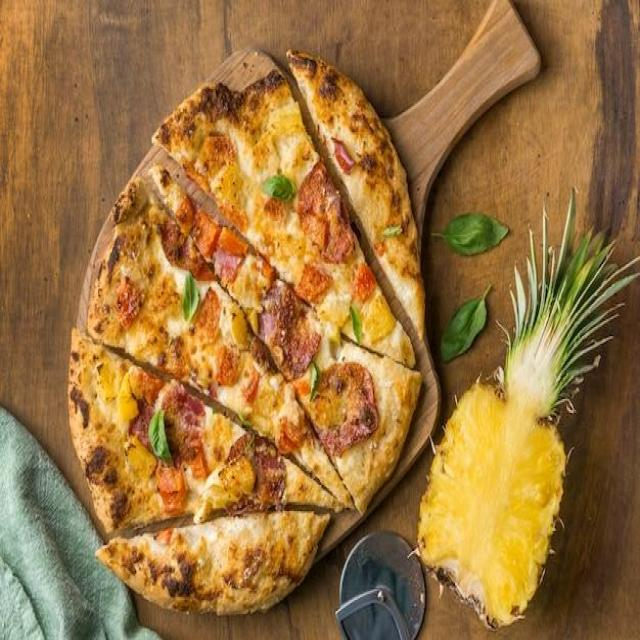basil: (440, 279, 494, 363), (430, 211, 510, 257), (150, 408, 174, 468), (150, 402, 168, 470), (260, 171, 296, 201), (182, 267, 200, 325), (349, 299, 366, 347), (376, 223, 406, 240), (309, 357, 320, 401)
pepperoni: (308, 366, 379, 454), (296, 162, 352, 266), (132, 388, 202, 466), (262, 279, 318, 375), (226, 434, 286, 503), (157, 223, 208, 281), (331, 136, 358, 167)
pizza: (144, 161, 422, 526), (85, 172, 354, 513), (150, 71, 416, 378), (70, 327, 365, 528), (288, 54, 424, 278), (89, 510, 343, 619)
